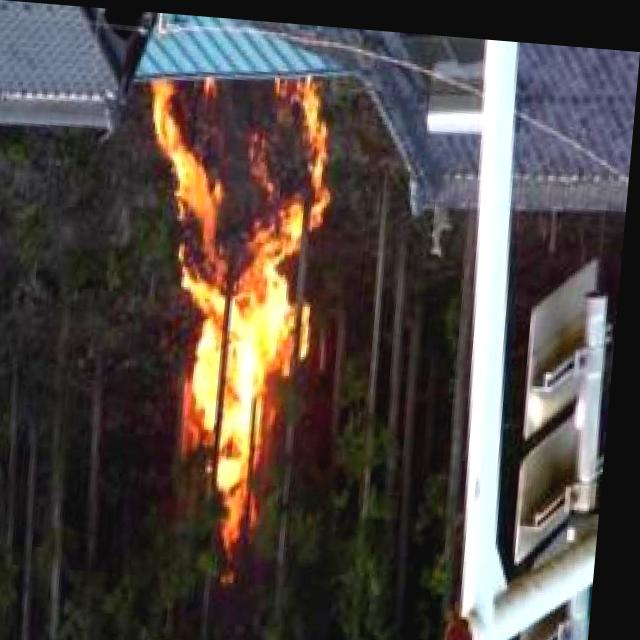helmet: (105, 64, 345, 596)
